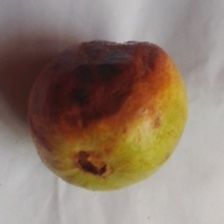guava: (29, 49, 214, 194)
